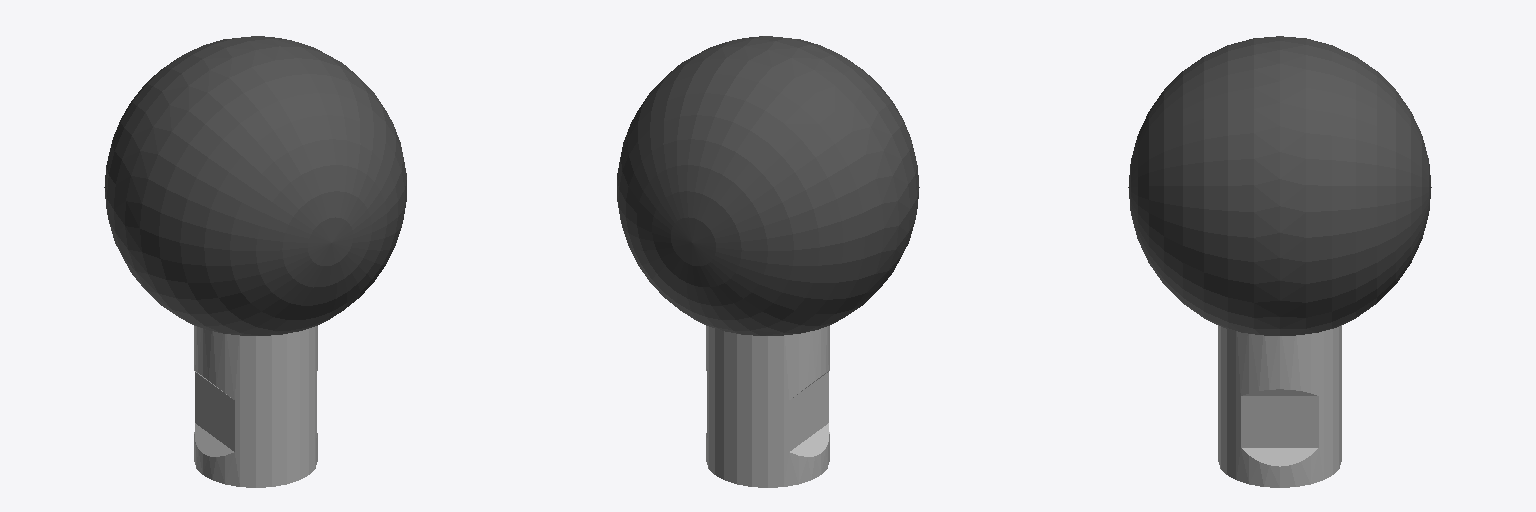
The model's file is ganter_gn_319_5-32-m8-b.obj.
3 renders of one model, left to right at view 1: azimuth 30°, elevation 25°; view 2: azimuth 150°, elevation 25°; view 3: azimuth 270°, elevation 25°, orthographic.
Parts seen in each view (by area): view 1: ganter_gn_319_5-32-m8-b_1; view 2: ganter_gn_319_5-32-m8-b_1; view 3: ganter_gn_319_5-32-m8-b_1.
Part boxes in pixels (x1,y1,x2,y2): ganter_gn_319_5-32-m8-b_1: (104,36,406,487); ganter_gn_319_5-32-m8-b_1: (617,36,919,487); ganter_gn_319_5-32-m8-b_1: (1128,36,1431,487).
Bounding box in the file's own units: 31.96 × 48 × 32.